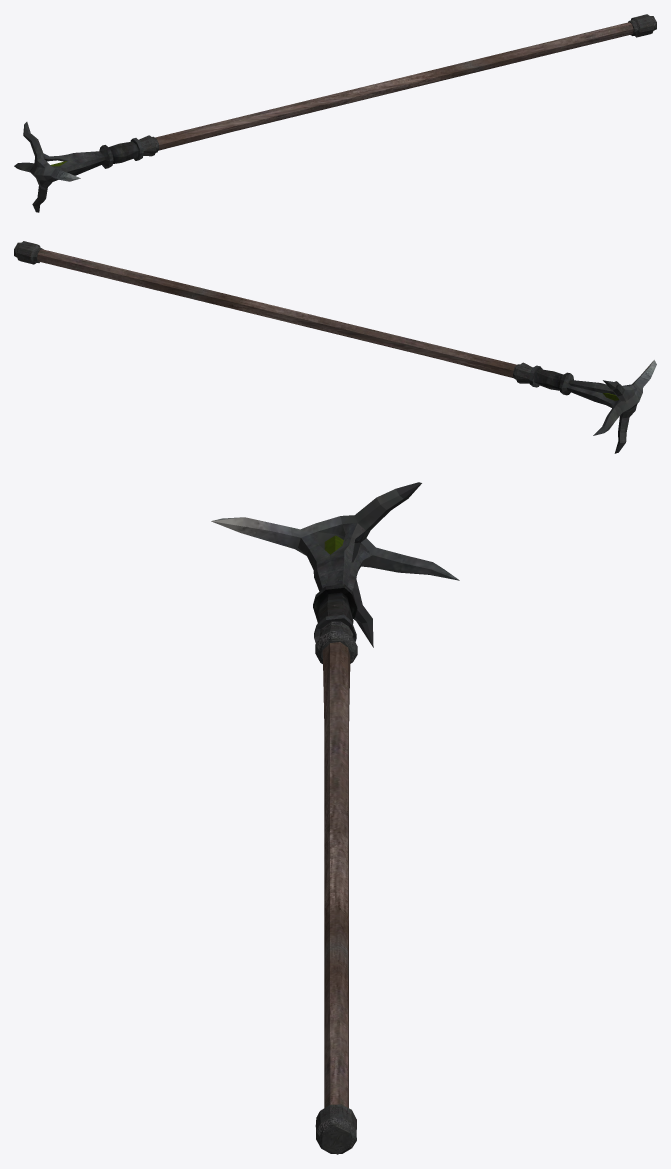
The model's file is G3_WEAPON_STAFF_PROT_02.glb.
3 views of the same model, one above another, from view 1: azimuth 30°, elevation 25°; view 2: azimuth 150°, elevation 25°; view 3: azimuth 270°, elevation 25° (orthographic). The views are drawn at different scales.
Parts seen in each view (by area): view 1: G3_WEAPON_STAFF_PROT_02; view 2: G3_WEAPON_STAFF_PROT_02; view 3: G3_WEAPON_STAFF_PROT_02.
Part boxes in pixels (x1,y1,x2,y2): G3_WEAPON_STAFF_PROT_02: [14, 14, 656, 212]; G3_WEAPON_STAFF_PROT_02: [14, 241, 656, 453]; G3_WEAPON_STAFF_PROT_02: [211, 482, 459, 1154].
Bounding box in the file's own units: 2.01 × 0.2561 × 0.3515.
1 material, 1 textured.
